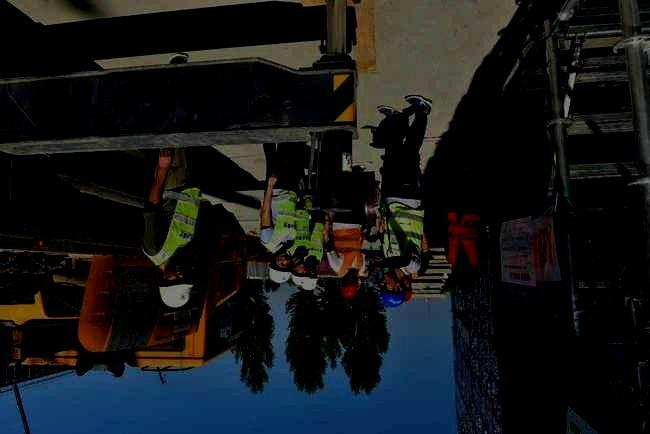helmet: (159, 263, 193, 308), (379, 273, 405, 309), (268, 252, 293, 284), (339, 271, 360, 299), (302, 263, 319, 291), (291, 263, 306, 286), (402, 276, 413, 302)
